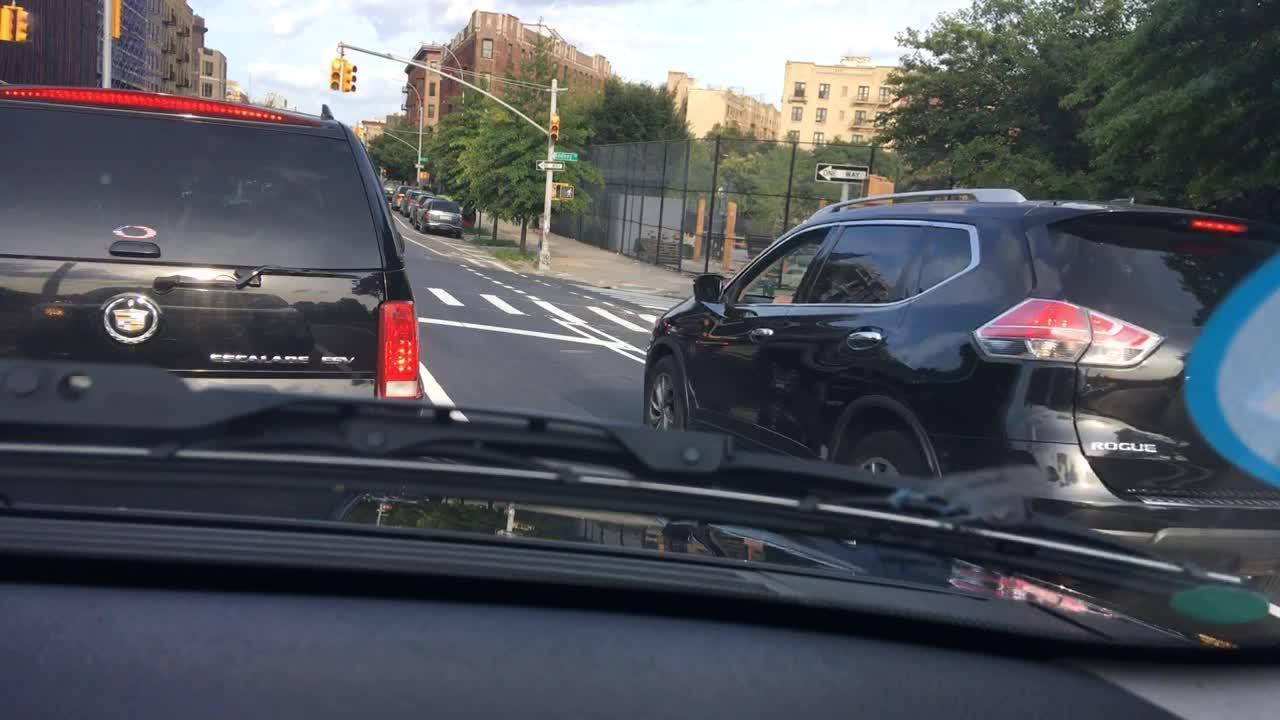cadillac: (89, 287, 177, 350)
